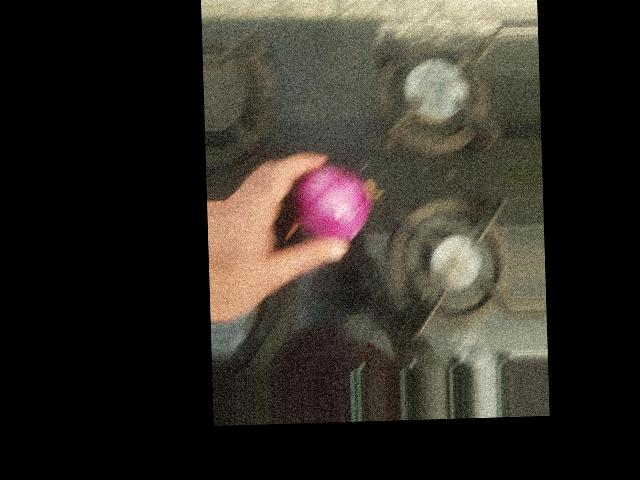onion: (286, 159, 372, 246)
